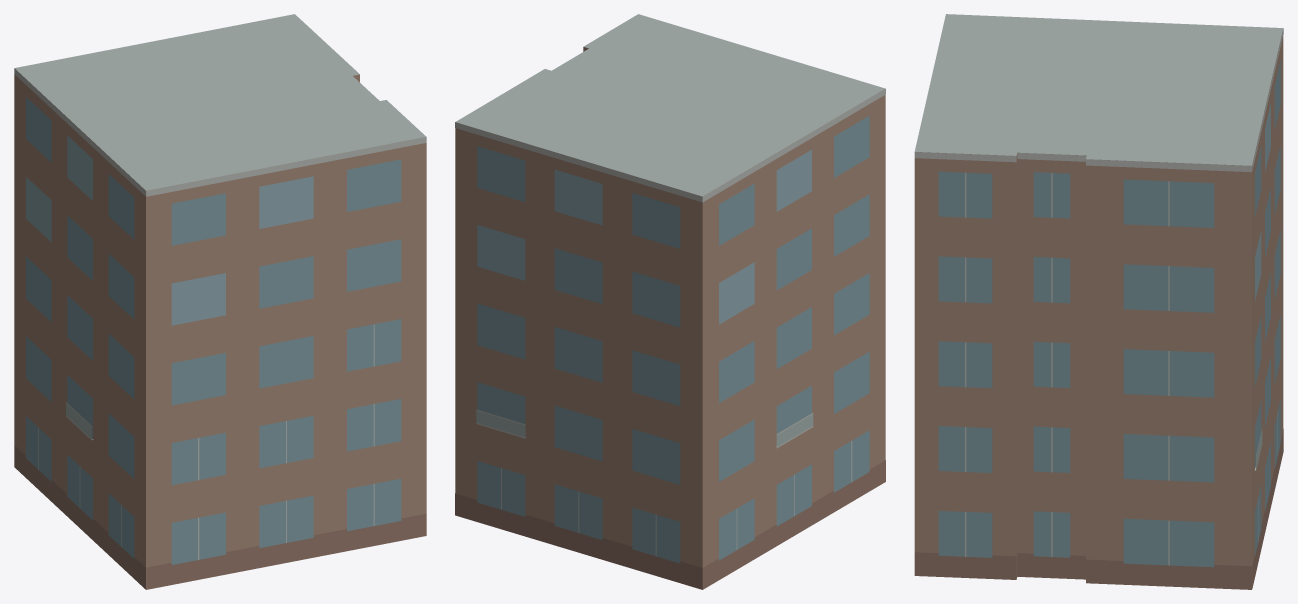
The model's file is survey-upis-32961196.glb.
3 renders of one model, left to right at view 1: azimuth 30°, elevation 25°; view 2: azimuth 150°, elevation 25°; view 3: azimuth 270°, elevation 25°, orthographic. The views are drawn at different scales.
Parts seen in each view (by area): view 1: survey-upis-32961196.tmp; view 2: survey-upis-32961196.tmp; view 3: survey-upis-32961196.tmp.
Boxes of the visible parts, left/top/right/bottom form: survey-upis-32961196.tmp: left=14, top=14, right=426, bottom=589; survey-upis-32961196.tmp: left=455, top=14, right=885, bottom=589; survey-upis-32961196.tmp: left=914, top=14, right=1283, bottom=589.
Size of the model in its own units: 12.49 by 16.25 by 12.82.
